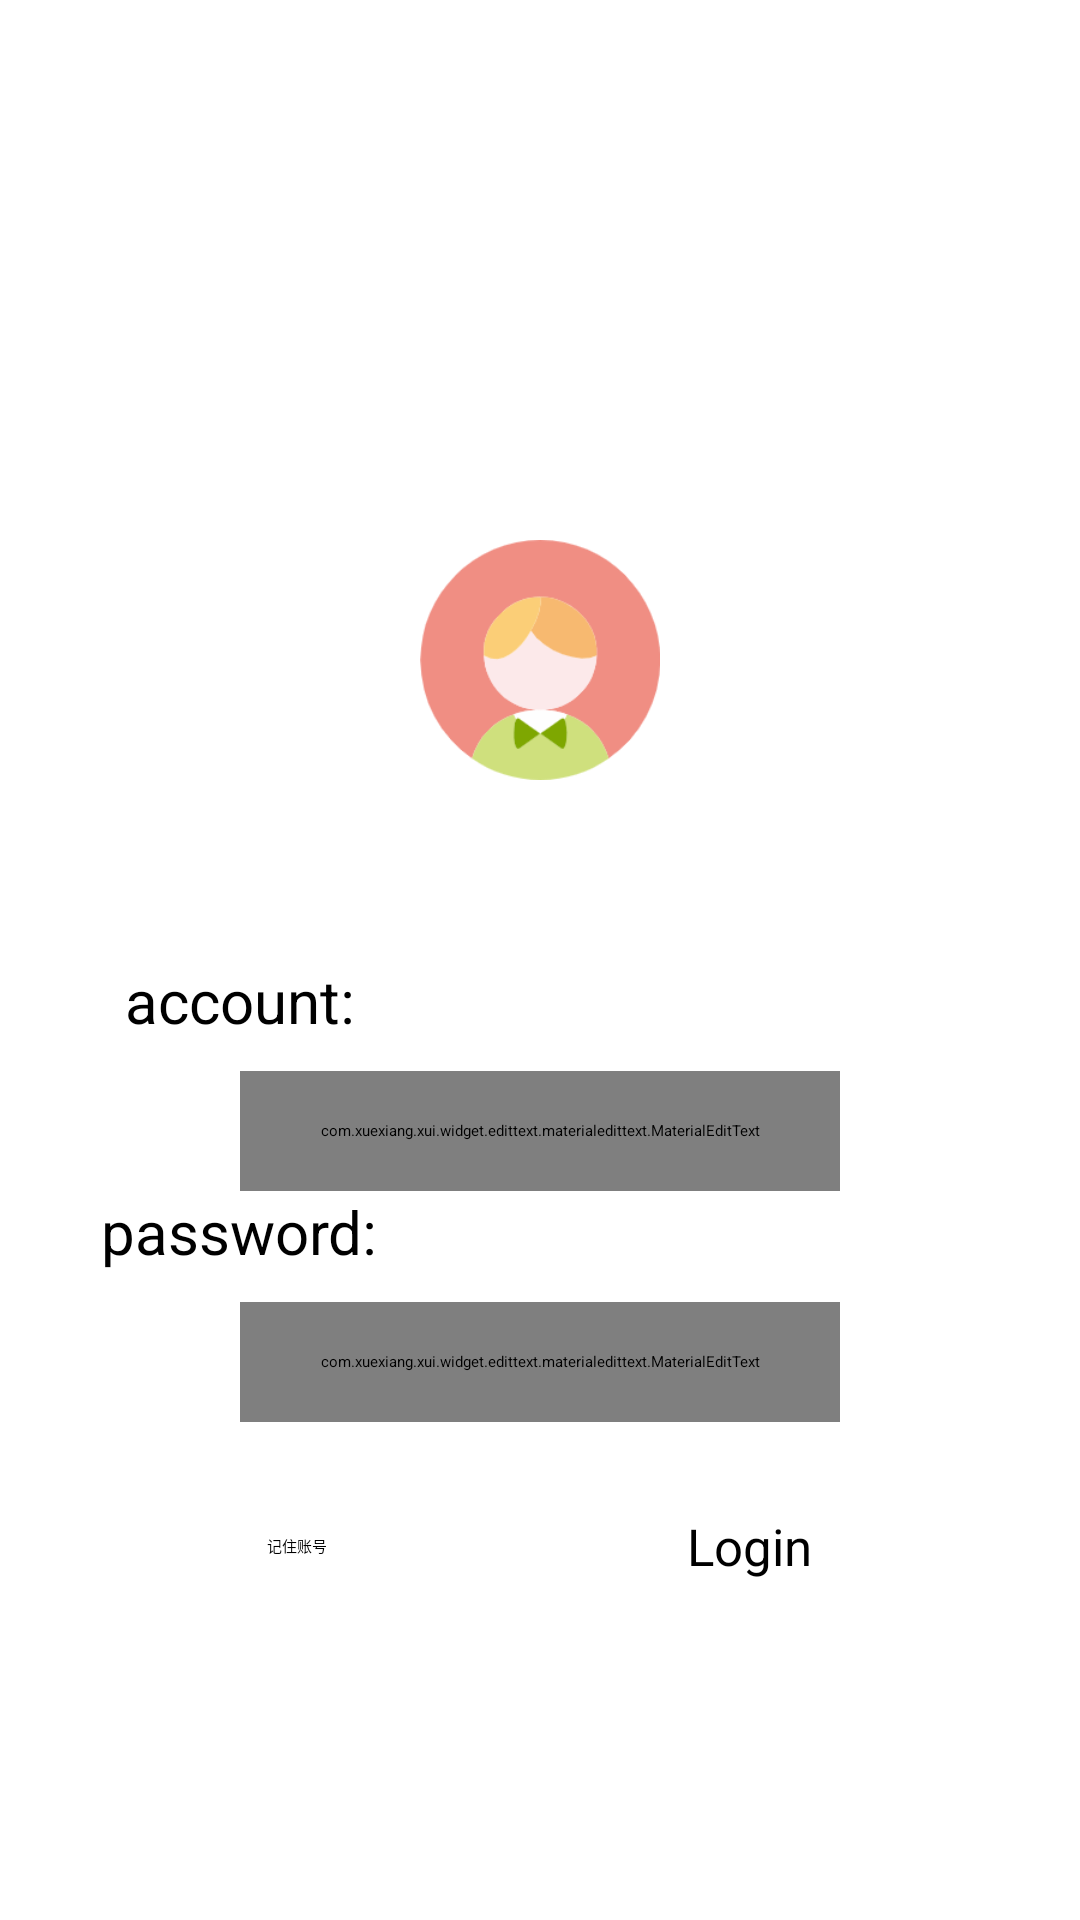

Where icons sit on this 1080 x 1920 app screen, as {"left": x1, "top": y1, "right": x2, "bottom": y2}:
user photo: {"left": 420, "top": 540, "right": 660, "bottom": 780}
